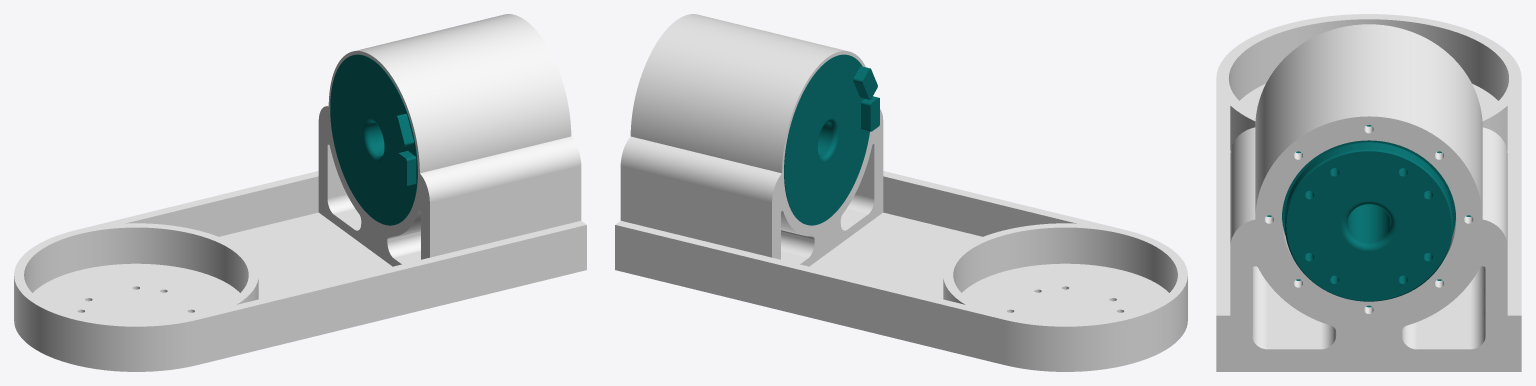
Rendered from L70IE_Finger.dae.
3 views of the same model, side by side, from view 1: azimuth 30°, elevation 25°; view 2: azimuth 150°, elevation 25°; view 3: azimuth 270°, elevation 25° (orthographic). The views are drawn at different scales.
Parts seen in each view (by area): view 1: L70IE_Finger; view 2: L70IE_Finger; view 3: L70IE_Finger.
Part boxes in pixels (bbox=[...]): L70IE_Finger: bbox=[14, 14, 586, 371]; L70IE_Finger: bbox=[615, 14, 1187, 371]; L70IE_Finger: bbox=[1216, 14, 1521, 371].
Bounding box in the file's own units: 0.234 × 0.098 × 0.0905.
